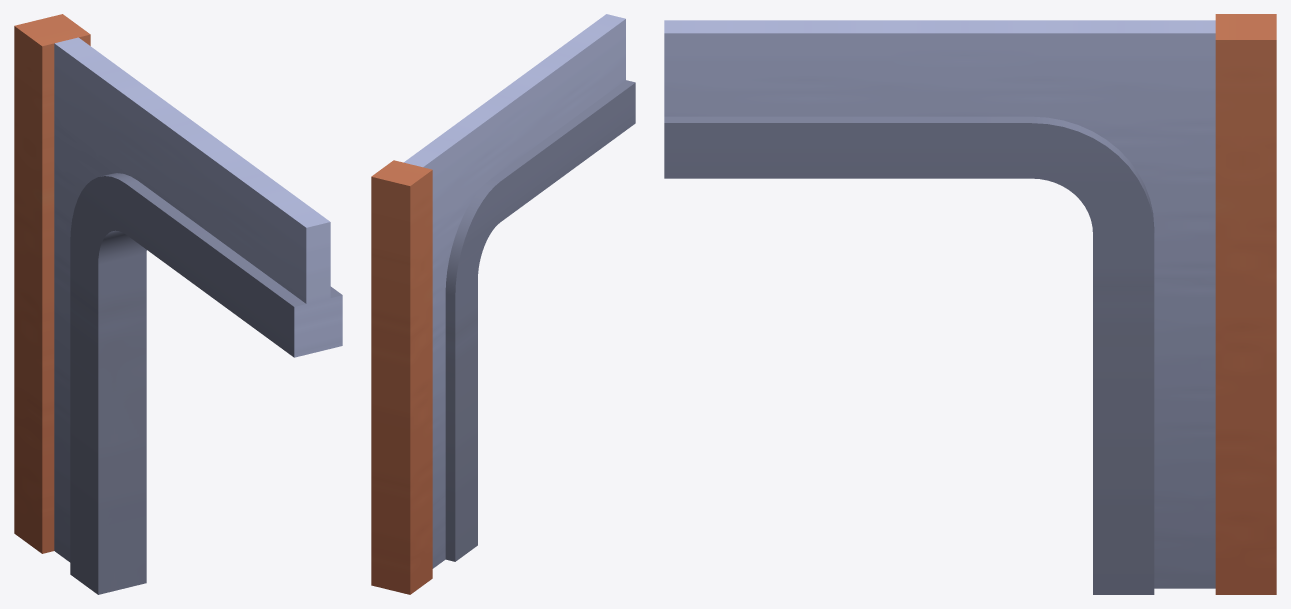
Rendered from wallDoorwaySquareWideCurved.fbx.
3 views of the same model, side by side, from view 1: azimuth 30°, elevation 25°; view 2: azimuth 150°, elevation 25°; view 3: azimuth 270°, elevation 25° (orthographic). The views are drawn at different scales.
Parts seen in each view (by area): view 1: wallDoorwaySquareWideCurved; view 2: wallDoorwaySquareWideCurved; view 3: wallDoorwaySquareWideCurved.
Part boxes in pixels (x1,y1,x2,y2): wallDoorwaySquareWideCurved: (14,14,342,594); wallDoorwaySquareWideCurved: (371,14,635,594); wallDoorwaySquareWideCurved: (664,14,1276,594).
Bounding box in the file's own units: 0.1 × 1 × 1.
